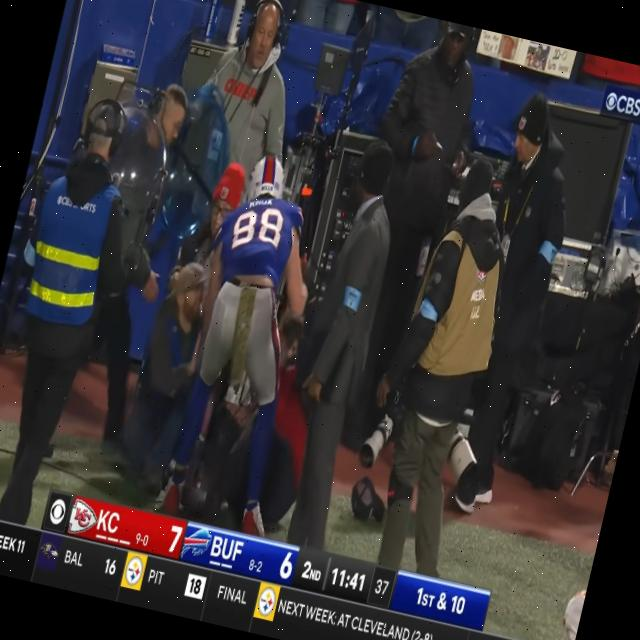Player: (160, 140, 342, 524)
